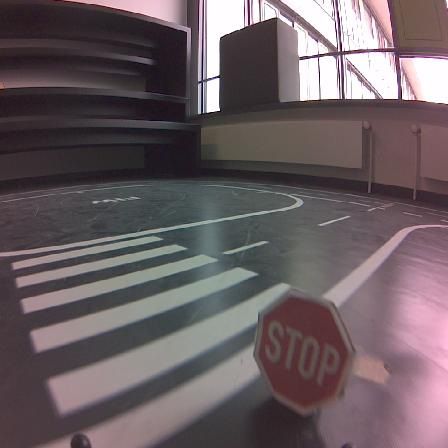STOP: (254, 289, 354, 415)
